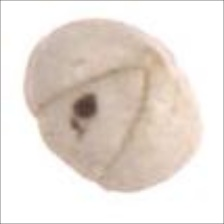L5: (33, 65, 155, 180)
L6: (21, 17, 204, 196)
